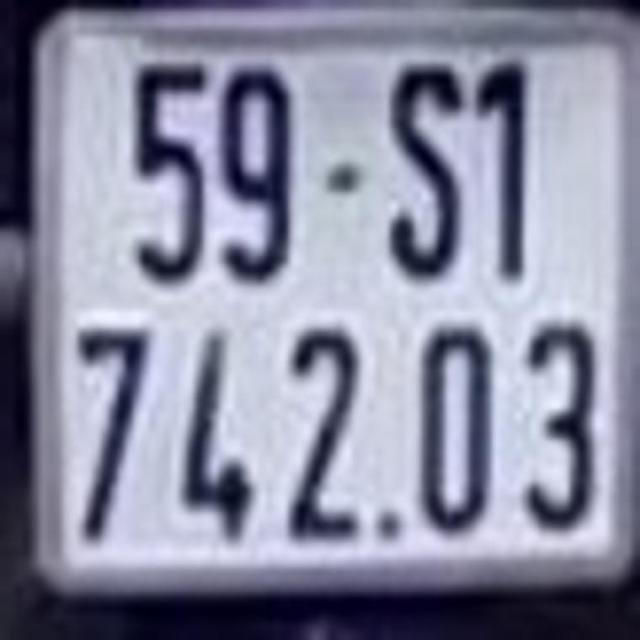0: (416, 317, 494, 534)
1: (472, 53, 545, 282)
2: (284, 321, 363, 542)
3: (521, 313, 597, 532)
4: (178, 324, 258, 545)
5: (128, 58, 209, 284)
7: (71, 320, 152, 544)
9: (218, 62, 295, 286)
S: (384, 55, 467, 281)
